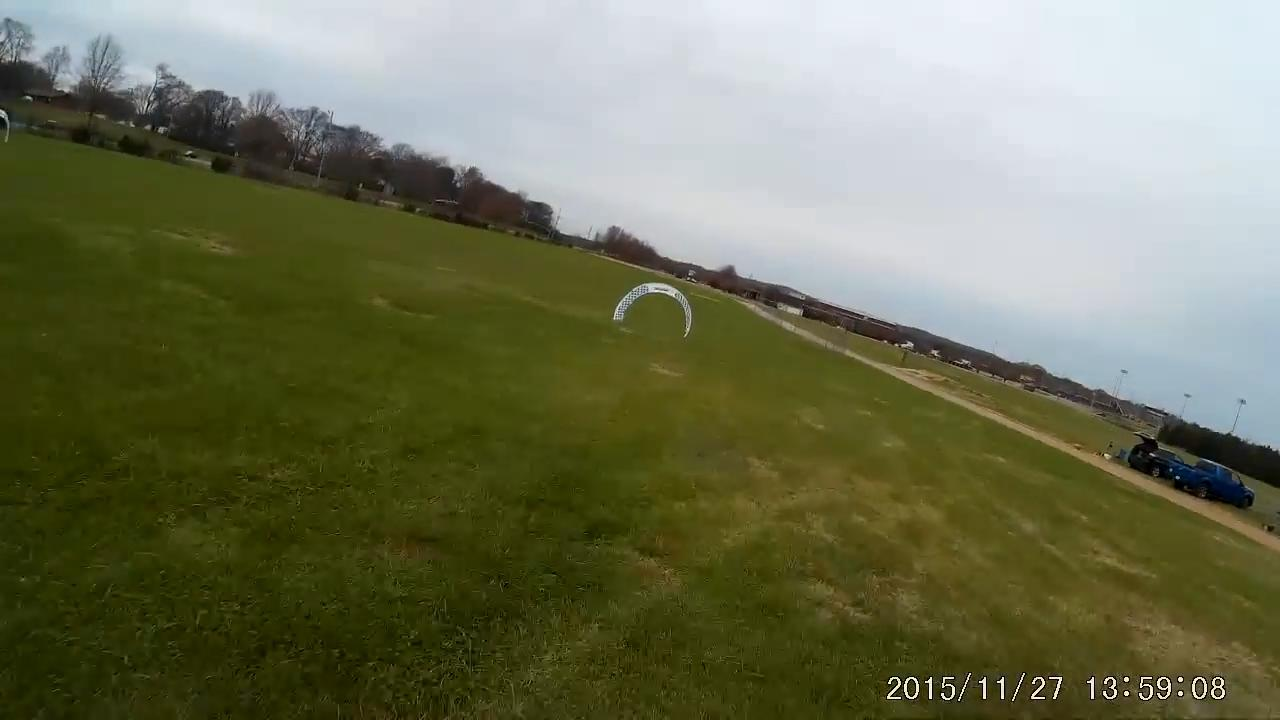gate: (609, 282, 695, 339)
